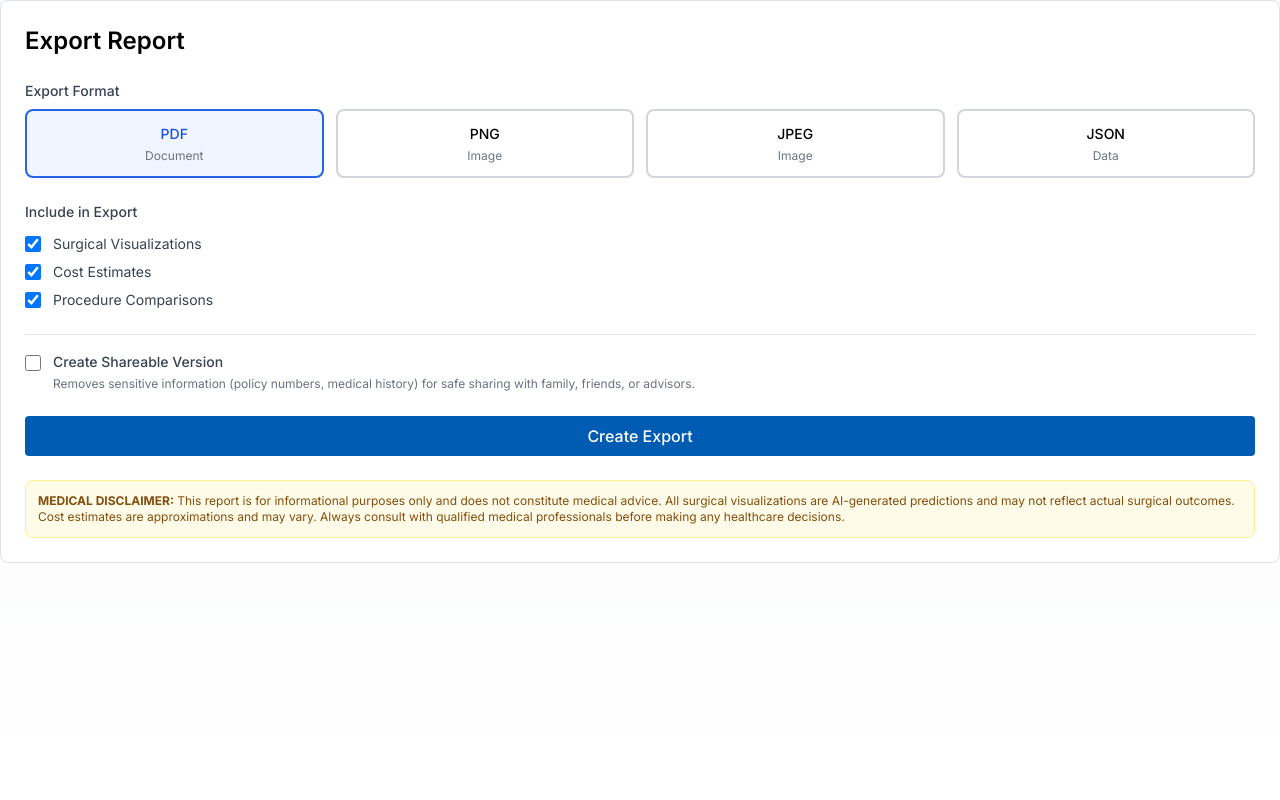
Test: ExportReport › Export Preview › should display export preview after creation
Click the button "Create Export" at (640, 436), box [25,416,1255,456]
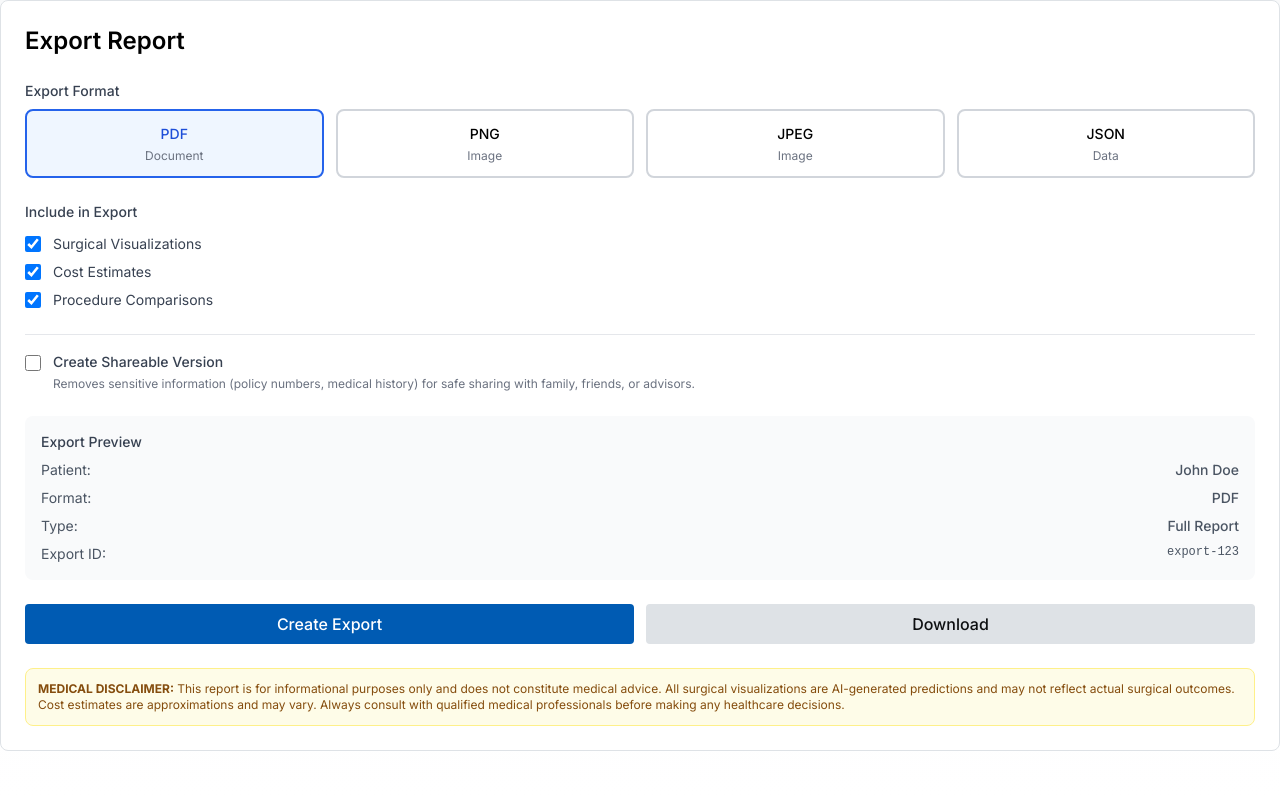
Expected: the heading "Export Preview" is shown, [41,433,142,450]
